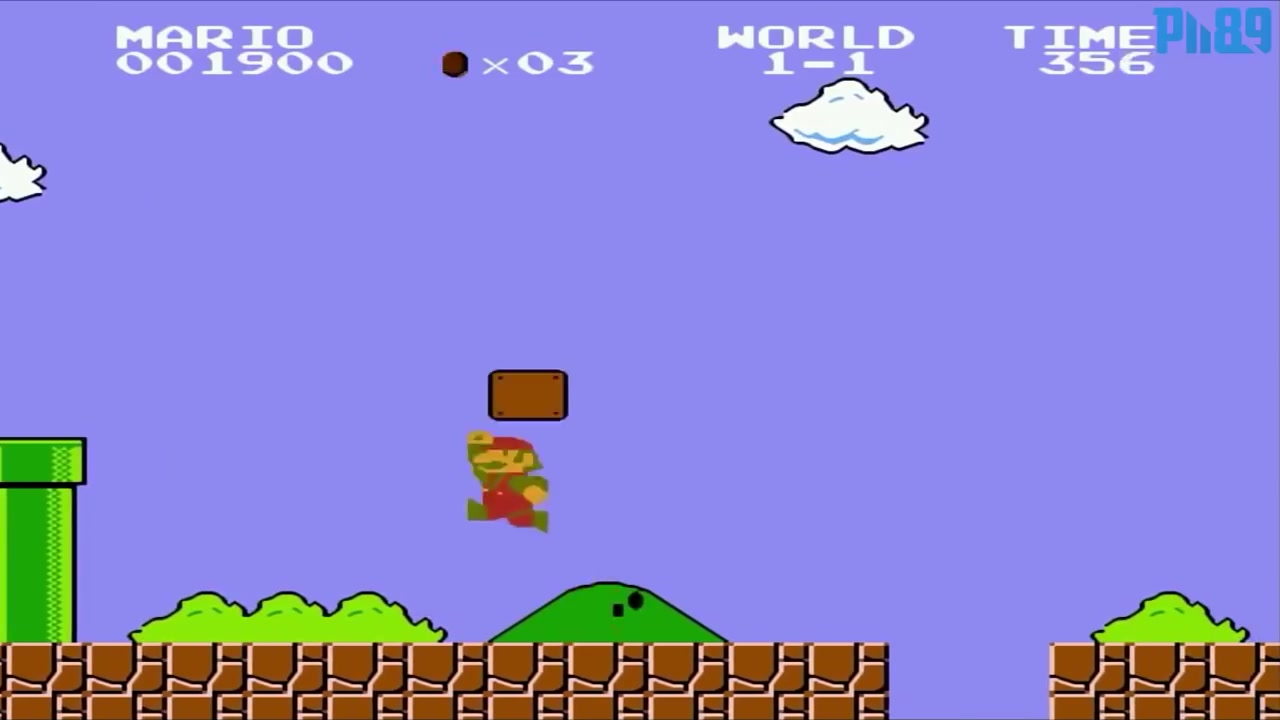mario: (457, 427, 560, 536)
